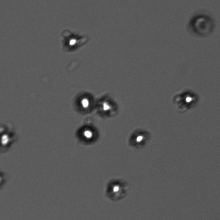Dead Cell: (186, 10, 218, 39)
Living Cell: (71, 89, 99, 116), (92, 91, 120, 118), (172, 86, 200, 113), (73, 118, 101, 145), (125, 125, 153, 152), (101, 175, 129, 202), (60, 28, 88, 54), (1, 122, 23, 154)
